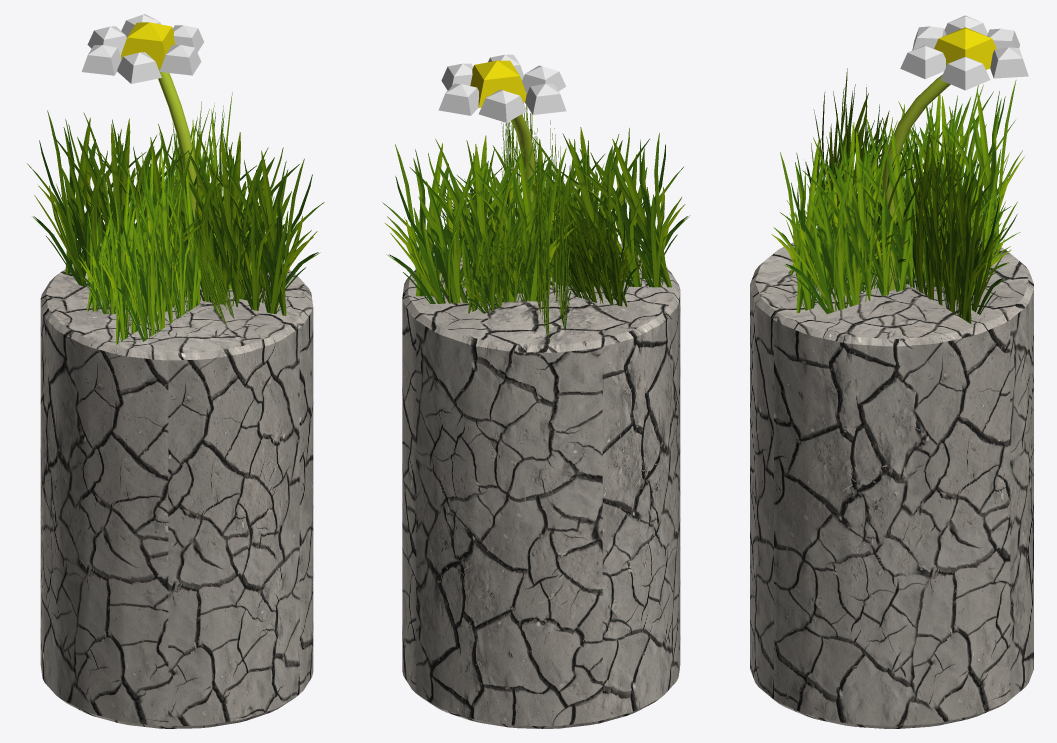
The model's file is pillar_earth_final.fbx.
The picture shows the model from 3 angles, left to right: view 1: azimuth 30°, elevation 25°; view 2: azimuth 150°, elevation 25°; view 3: azimuth 270°, elevation 25°; orthographic projection. The views are drawn at different scales.
Visible parts, largest first — view 1: polySurface30; view 2: polySurface30; view 3: polySurface30.
Boxes of the visible parts, <box> form: polySurface30: <box>27,14,324,728</box>; polySurface30: <box>382,54,690,728</box>; polySurface30: <box>750,15,1033,728</box>.
Bounding box in the file's own units: 0.2267 × 0.5246 × 0.2152.
5 materials, 2 textured.
